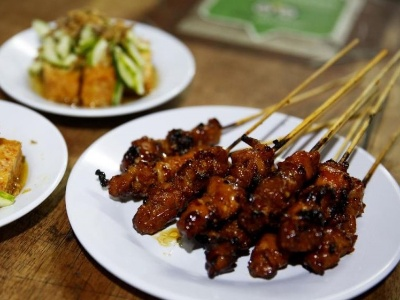sate: (129, 39, 400, 262)
